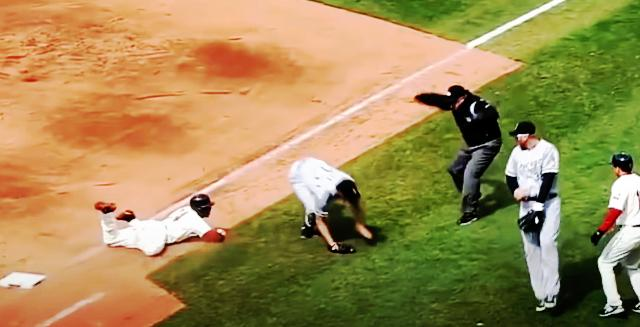jatuh: (282, 147, 378, 257), (90, 194, 234, 260)
